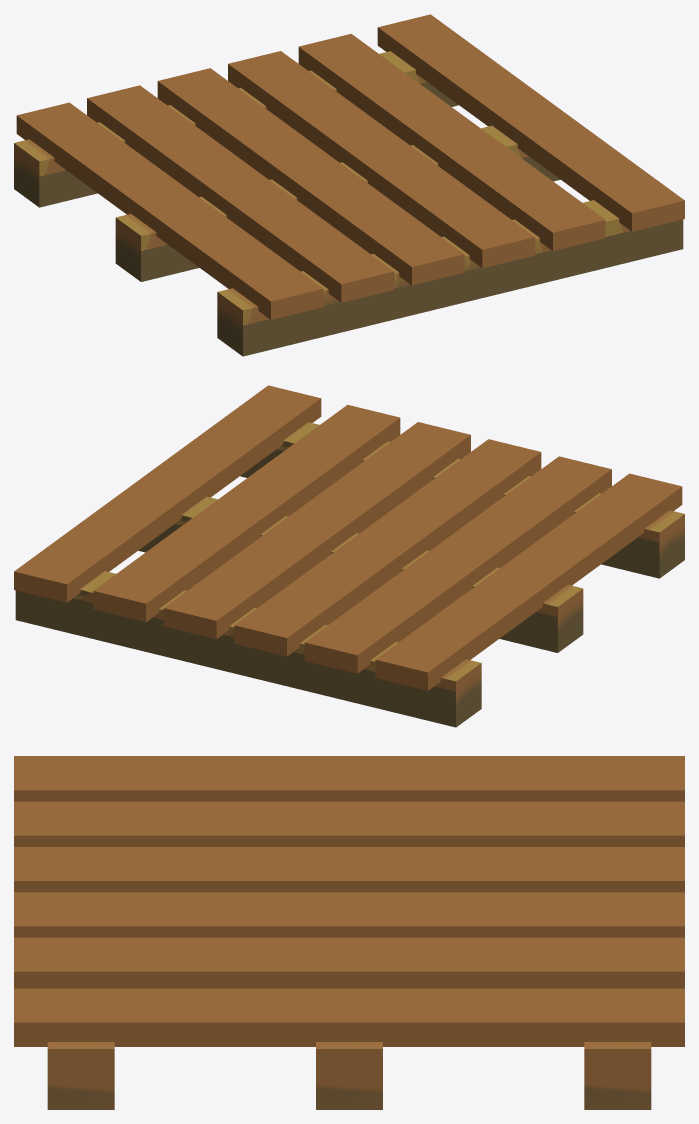
Rendered from Tari_prefab.fbx.
The picture shows the model from 3 angles, top to bottom: view 1: azimuth 30°, elevation 25°; view 2: azimuth 150°, elevation 25°; view 3: azimuth 270°, elevation 25°; orthographic projection. The views are drawn at different scales.
Visible parts, largest first — view 1: Cube.002; view 2: Cube.002; view 3: Cube.002.
Boxes of the visible parts, left/top/right/bottom form: Cube.002: left=14, top=14, right=684, bottom=356; Cube.002: left=14, top=385, right=684, bottom=727; Cube.002: left=14, top=756, right=684, bottom=1109.
Bounding box in the file's own units: 5 × 0.6577 × 5.
1 material, 1 textured.
